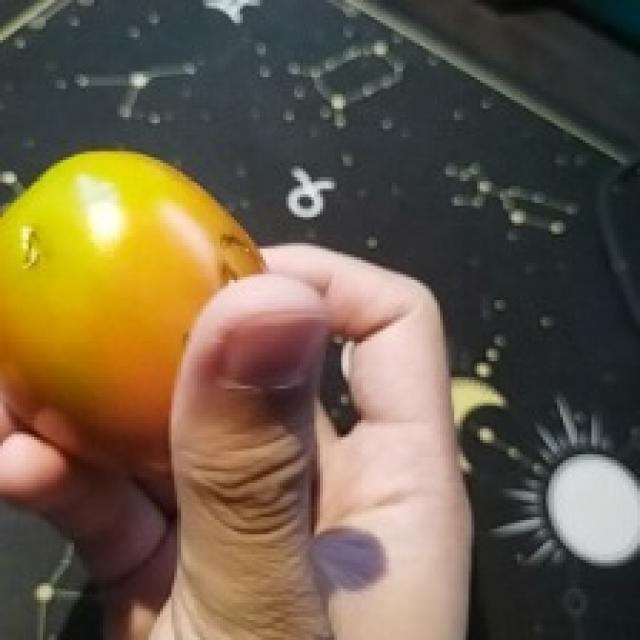Rotten Tomato: (0, 121, 310, 487)
